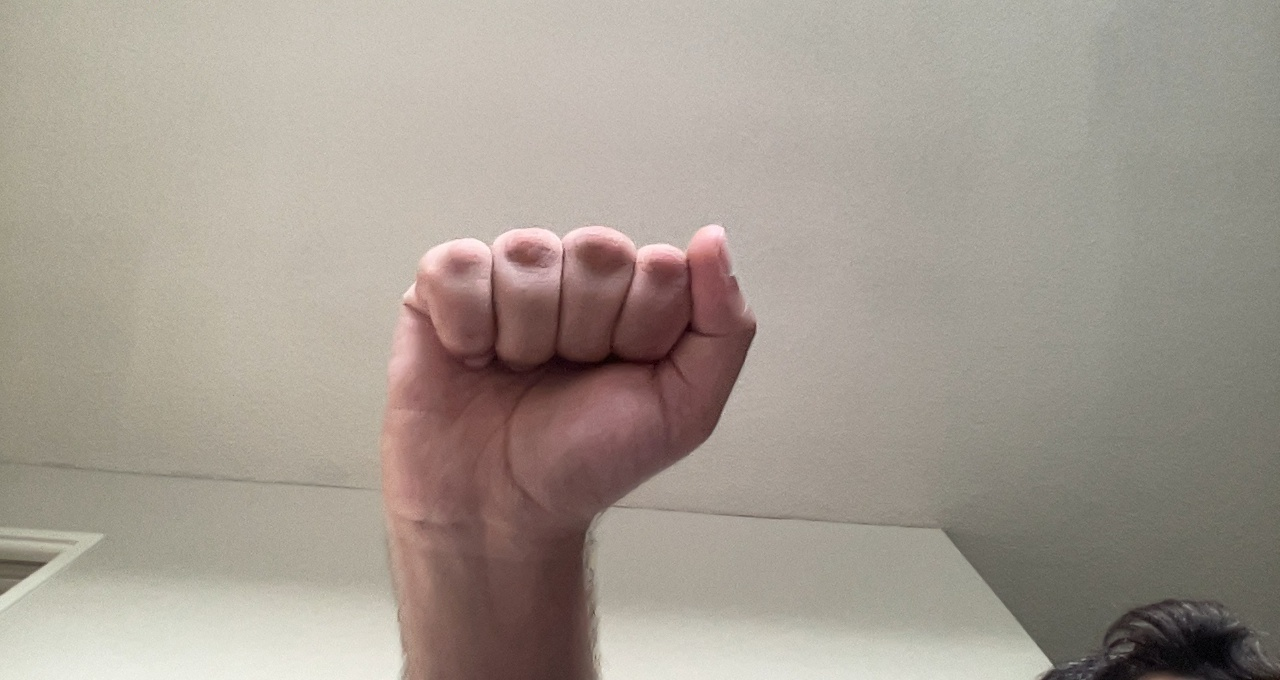closedfist: (377, 220, 763, 552)
